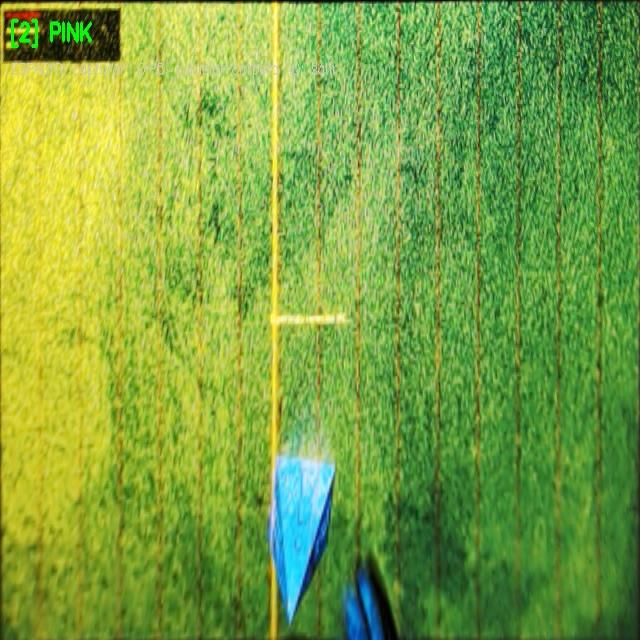pink: (267, 456, 334, 623)
